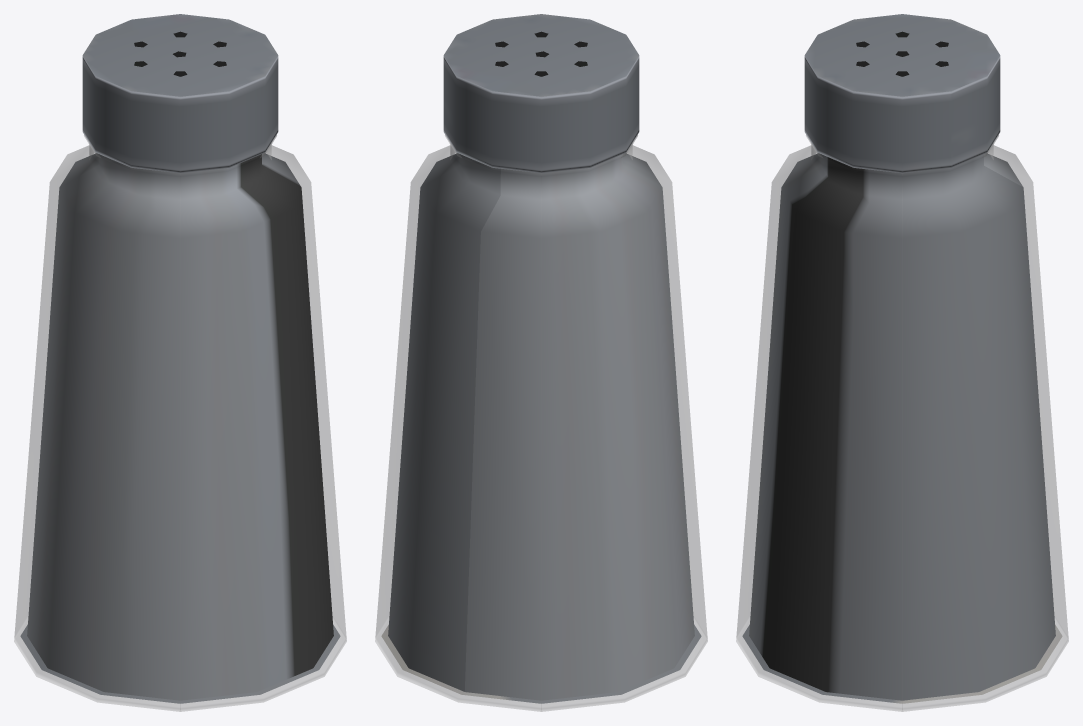
The model's file is pi_bottle02_salt.gltf.
The picture shows the model from 3 angles, left to right: view 1: azimuth 30°, elevation 25°; view 2: azimuth 150°, elevation 25°; view 3: azimuth 270°, elevation 25°; orthographic projection.
Parts seen in each view (by area): view 1: pi_bottle02_salt_02_shape:pi_bottle02_salt_body01_tra, pi_bottle02_salt_05_shape:pi_bottle02_salt_body01_tra, pi_bottle02_salt_01_shape:pi_bottle02_salt_body01; view 2: pi_bottle02_salt_02_shape:pi_bottle02_salt_body01_tra, pi_bottle02_salt_05_shape:pi_bottle02_salt_body01_tra, pi_bottle02_salt_01_shape:pi_bottle02_salt_body01; view 3: pi_bottle02_salt_02_shape:pi_bottle02_salt_body01_tra, pi_bottle02_salt_05_shape:pi_bottle02_salt_body01_tra, pi_bottle02_salt_01_shape:pi_bottle02_salt_body01.
Boxes of the visible parts, bbox=[...] form: pi_bottle02_salt_02_shape:pi_bottle02_salt_body01_tra: bbox=[14, 135, 346, 711]; pi_bottle02_salt_05_shape:pi_bottle02_salt_body01_tra: bbox=[20, 153, 340, 703]; pi_bottle02_salt_01_shape:pi_bottle02_salt_body01: bbox=[82, 14, 278, 173]; pi_bottle02_salt_02_shape:pi_bottle02_salt_body01_tra: bbox=[375, 135, 707, 711]; pi_bottle02_salt_05_shape:pi_bottle02_salt_body01_tra: bbox=[381, 153, 701, 703]; pi_bottle02_salt_01_shape:pi_bottle02_salt_body01: bbox=[443, 14, 639, 173]; pi_bottle02_salt_02_shape:pi_bottle02_salt_body01_tra: bbox=[736, 135, 1068, 711]; pi_bottle02_salt_05_shape:pi_bottle02_salt_body01_tra: bbox=[742, 153, 1062, 703]; pi_bottle02_salt_01_shape:pi_bottle02_salt_body01: bbox=[804, 14, 1000, 173].
Size of the model in its own units: 0.0501 by 0.0975 by 0.0501.
Materials: 2 (2 with a texture image).
